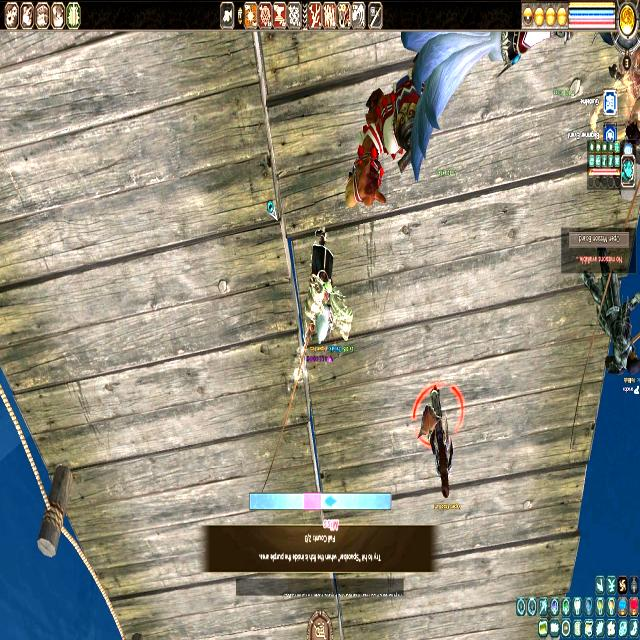fishes: (324, 494, 337, 508)
